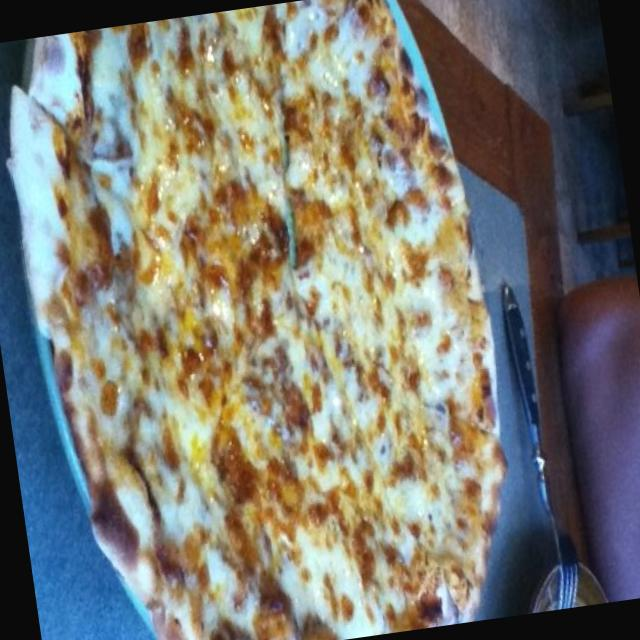pizza: (9, 0, 504, 640)
